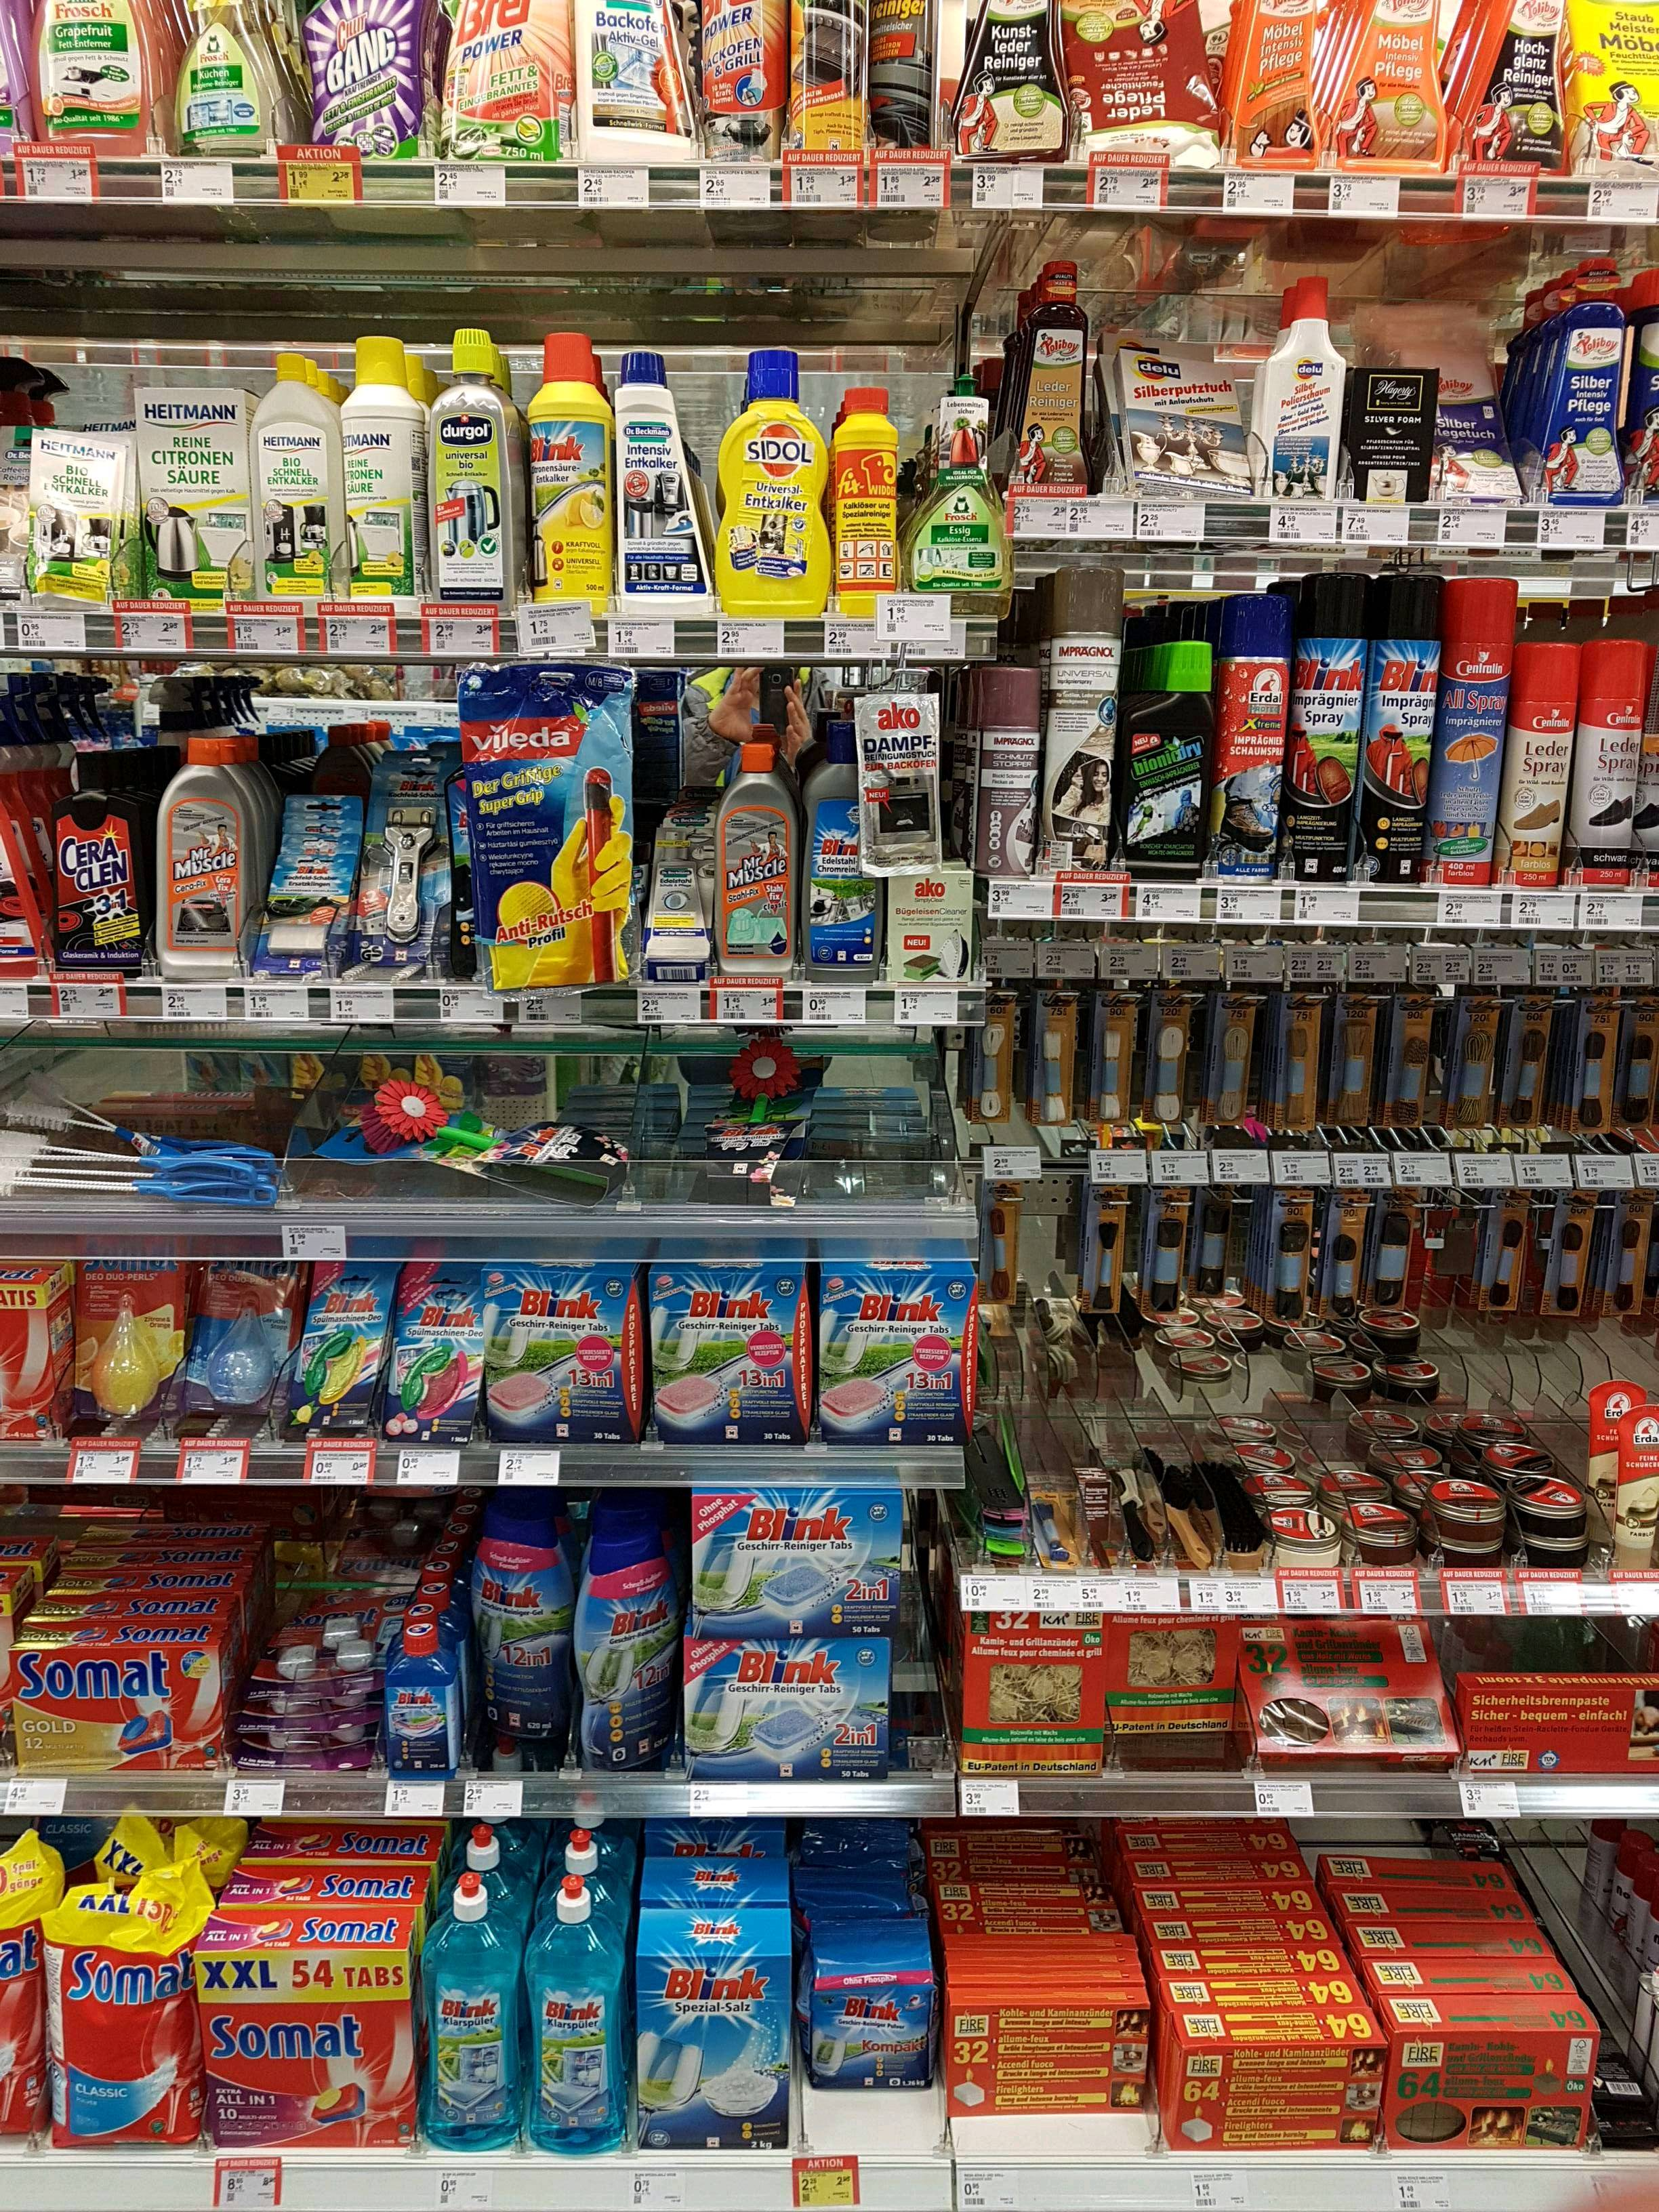Misplacement: (805, 1817, 946, 2155)
